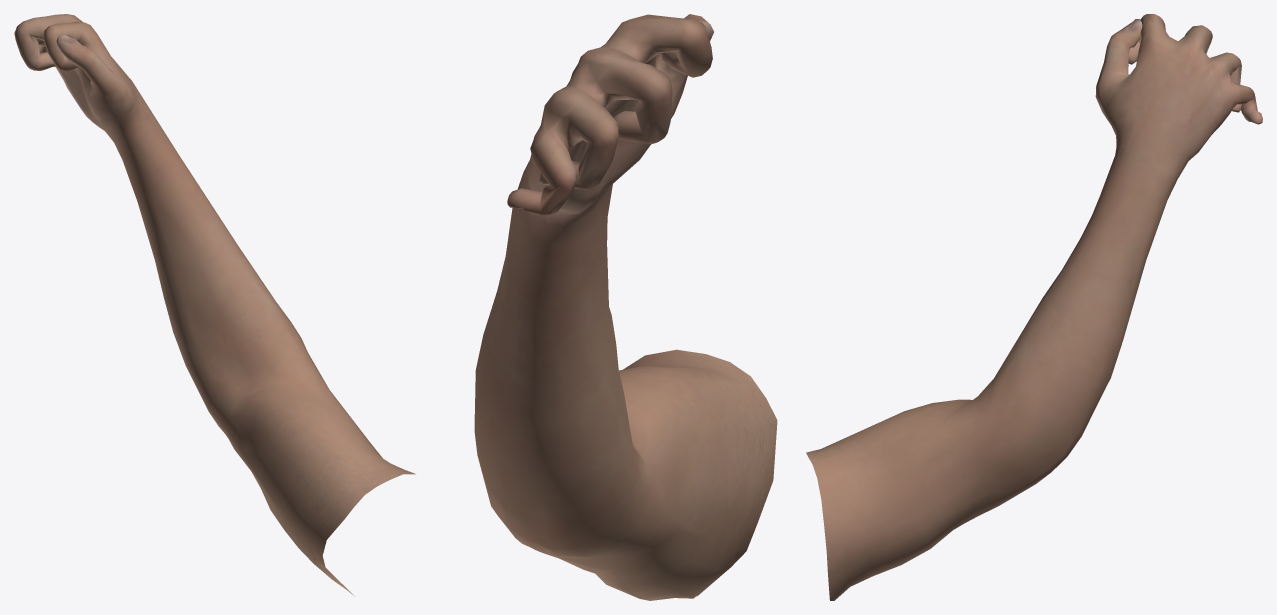
The model's file is arm_right.glb.
3 views of the same model, side by side, from view 1: azimuth 30°, elevation 25°; view 2: azimuth 150°, elevation 25°; view 3: azimuth 270°, elevation 25° (orthographic). The views are drawn at different scales.
Visible parts, largest first — view 1: arm; view 2: arm; view 3: arm.
Part boxes in pixels (box(x1,y1,x2,y2)): arm: box(14, 14, 415, 596); arm: box(474, 14, 777, 600); arm: box(806, 14, 1262, 600).
Bounding box in the file's own units: 0.222 × 0.4408 × 0.3665.
Materials: 1 (1 with a texture image).
